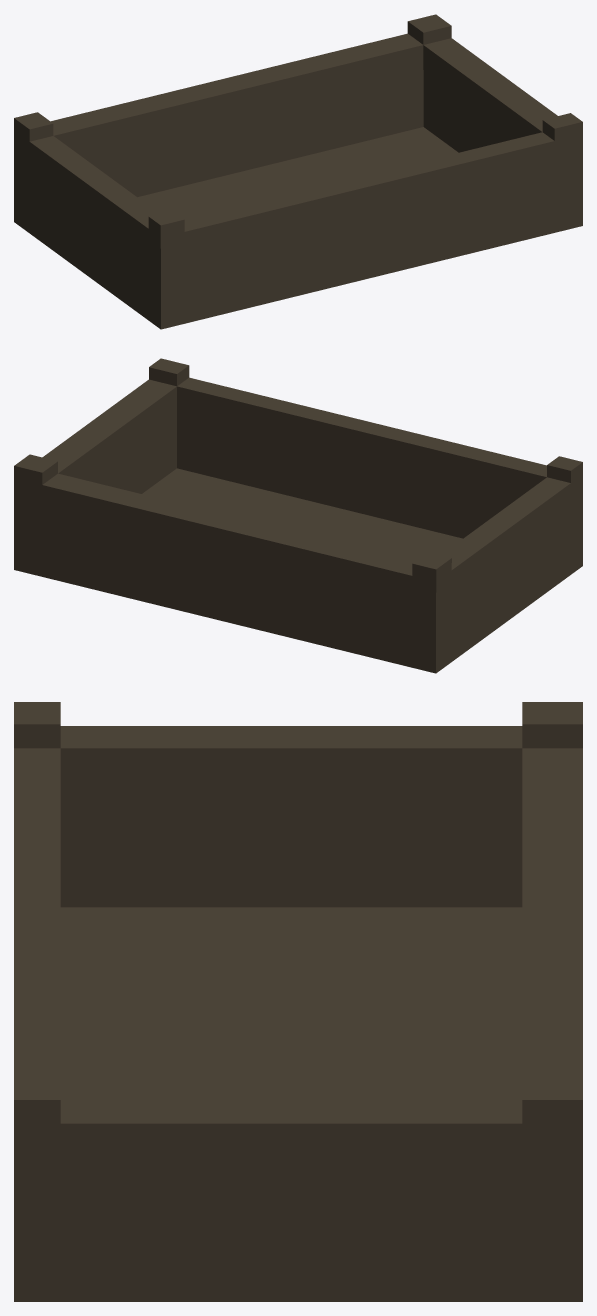
The model's file is food_box.fbx.
The picture shows the model from 3 angles, top to bottom: view 1: azimuth 30°, elevation 25°; view 2: azimuth 150°, elevation 25°; view 3: azimuth 270°, elevation 25°; orthographic projection. The views are drawn at different scales.
Visible parts, largest first — view 1: food_box; view 2: food_box; view 3: food_box.
Boxes of the visible parts, bbox=[...] form: food_box: bbox=[14, 14, 582, 329]; food_box: bbox=[14, 358, 582, 673]; food_box: bbox=[14, 702, 582, 1301].
Bounding box in the file's own units: 83.47 × 19.81 × 50.27.
